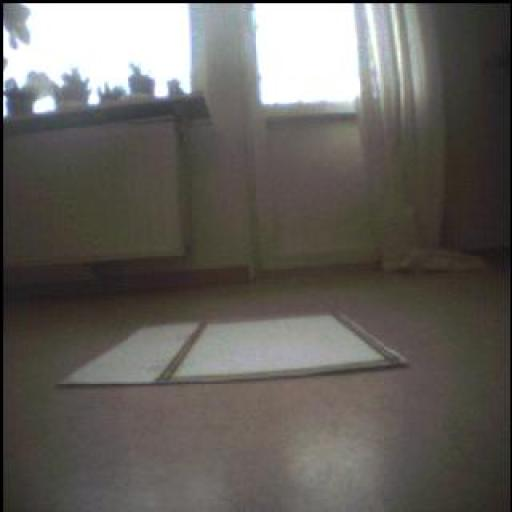Pad: (62, 315, 406, 387)
